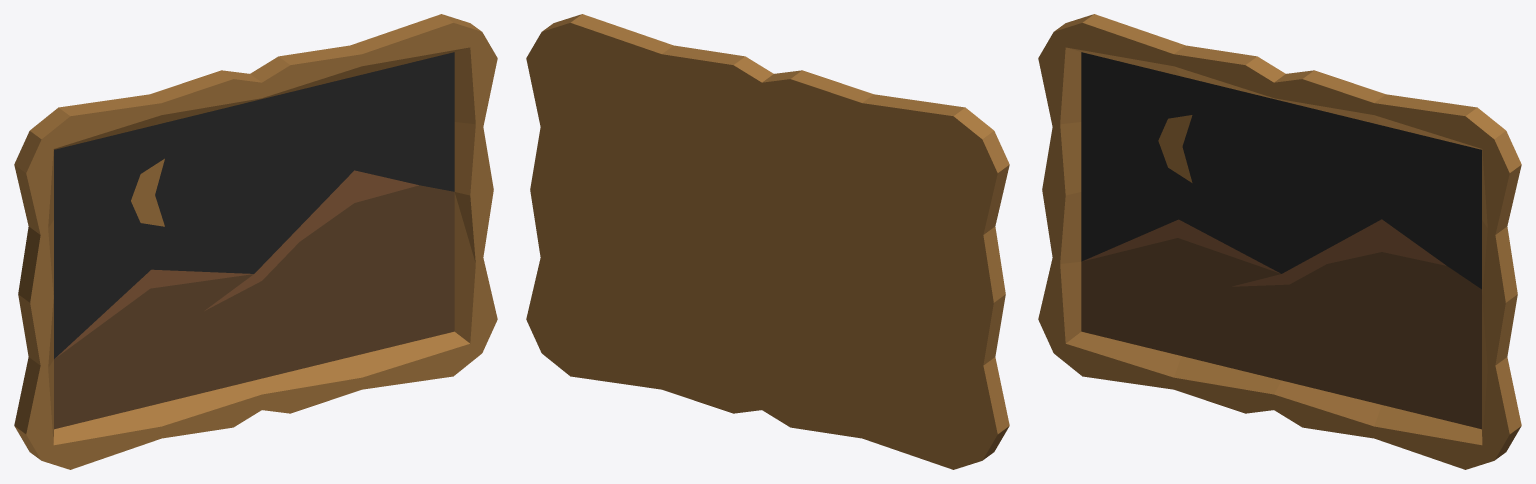
Rendered from picture-frame.glb.
3 views of the same model, side by side, from view 1: azimuth 30°, elevation 25°; view 2: azimuth 150°, elevation 25°; view 3: azimuth 330°, elevation 25° (orthographic).
Parts seen in each view (by area): view 1: picture-frame; view 2: picture-frame; view 3: picture-frame.
Boxes of the visible parts, <box> form: picture-frame: <box>14,14,497,469</box>; picture-frame: <box>526,14,1009,469</box>; picture-frame: <box>1038,14,1521,469</box>.
Bounding box in the file's own units: 1.59 × 1.14 × 0.07.
1 material, 1 textured.
